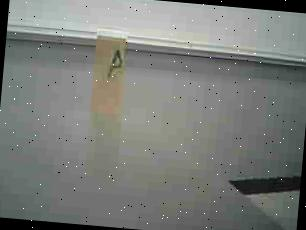Bottle A: (86, 27, 132, 121)
